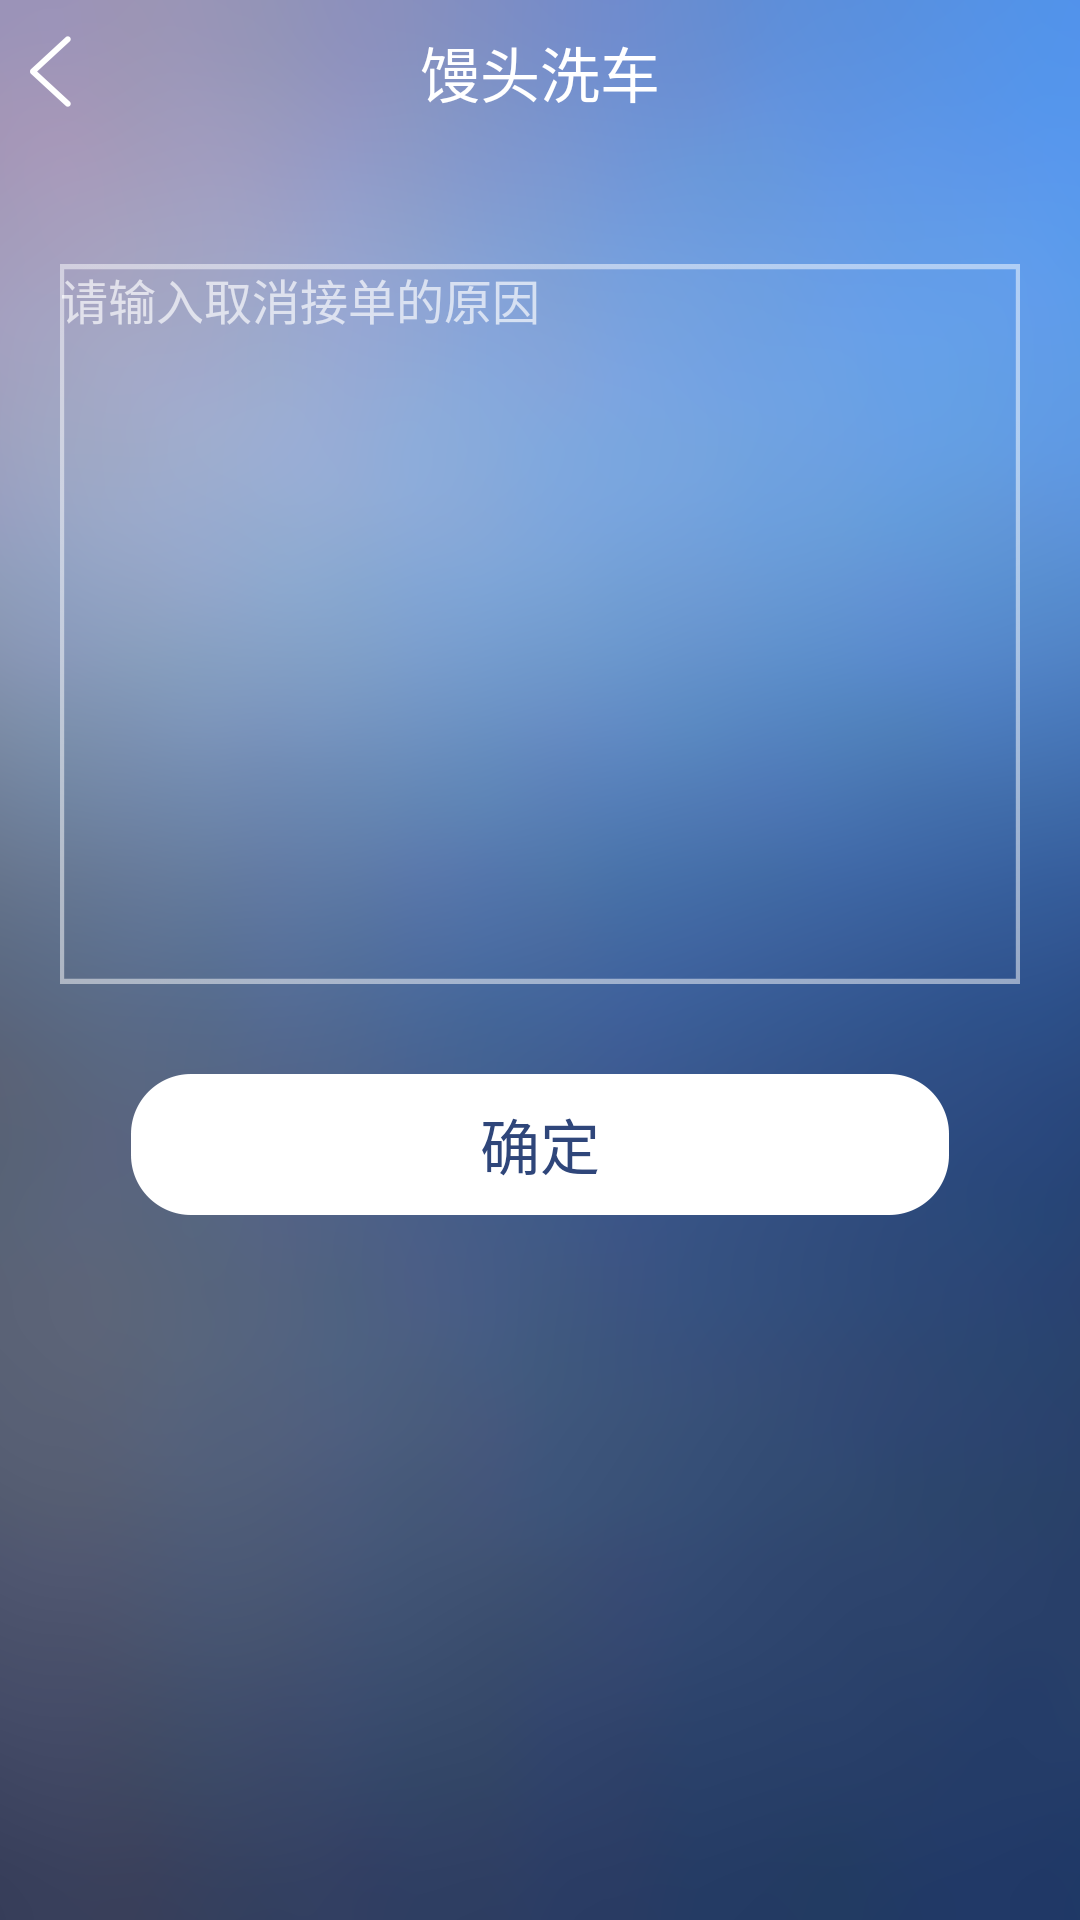

Where to tap for icons on this 1080px×1920px app screen, as point (x, y):
titlebar back: point (50, 71)
